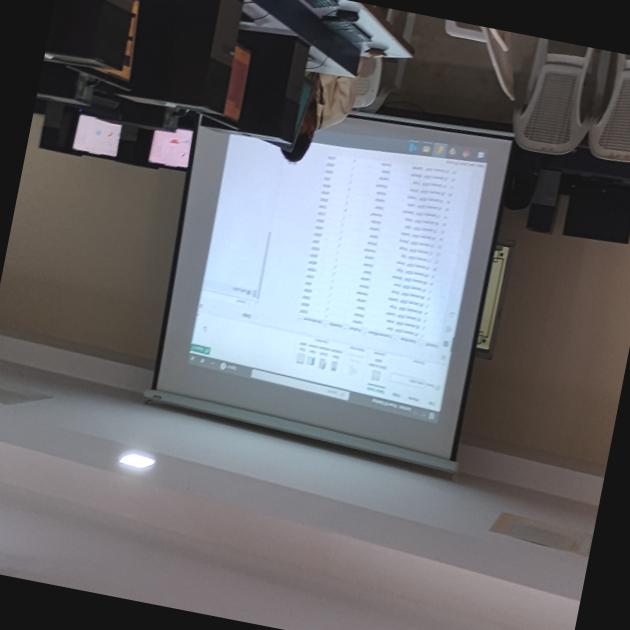computer: (552, 167, 630, 256)
projector: (127, 64, 540, 499)
